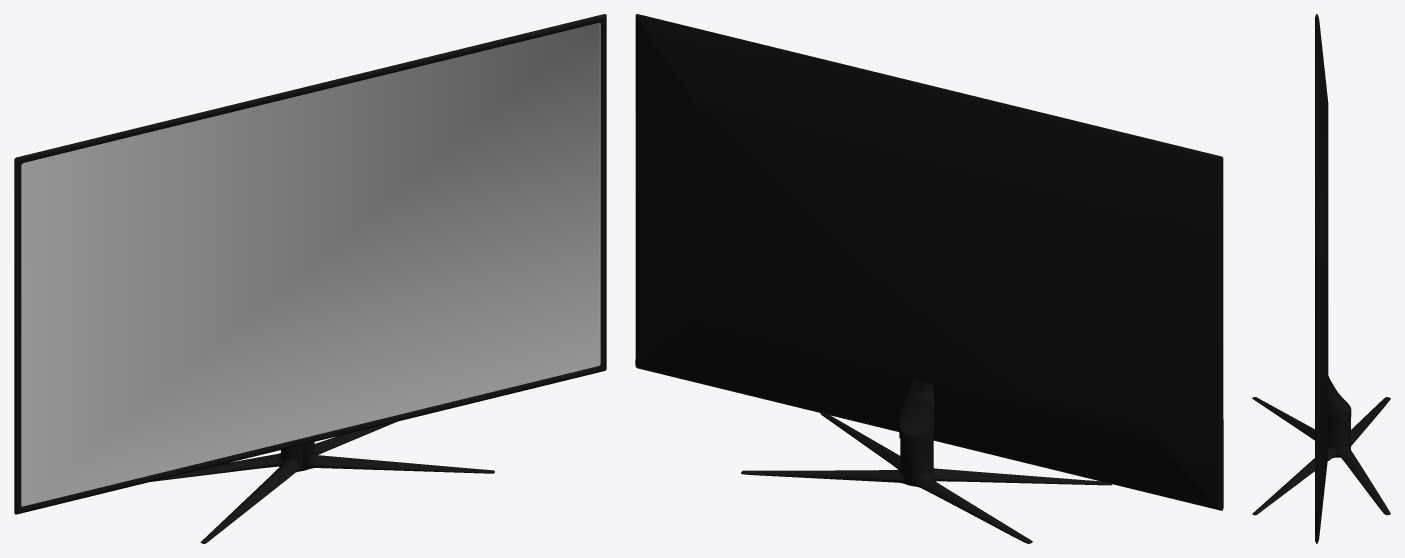
3 views of the same model, side by side, from view 1: azimuth 30°, elevation 25°; view 2: azimuth 150°, elevation 25°; view 3: azimuth 270°, elevation 25° (orthographic). The views are drawn at different scales.
Parts seen in each view (by area): view 1: tv; view 2: tv; view 3: tv.
Part boxes in pixels (x1,y1,x2,y2): tv: [14, 14, 606, 543]; tv: [635, 14, 1223, 543]; tv: [1252, 14, 1390, 543].
Bounding box in the file's own units: 1240 × 791 × 306.
